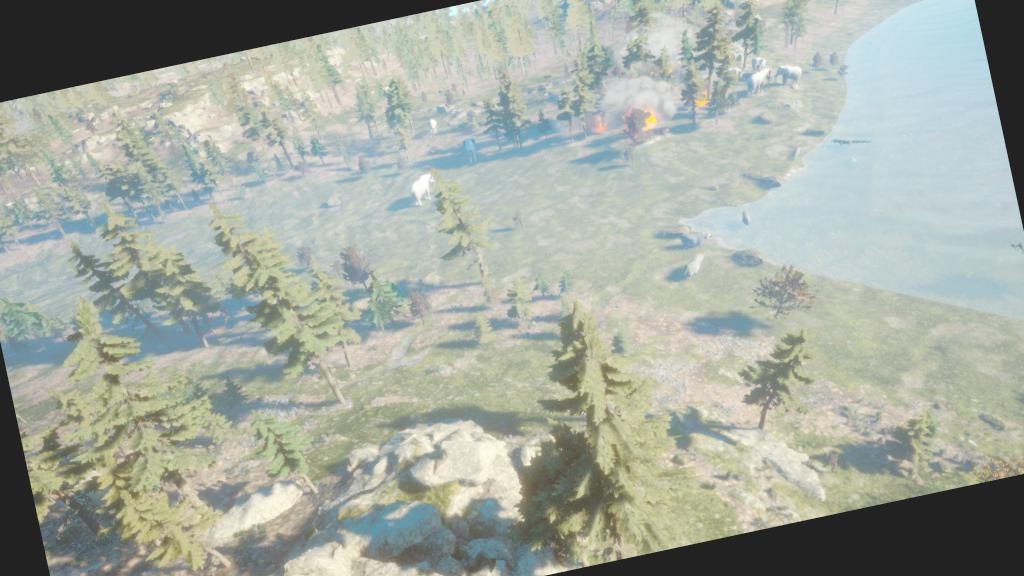elephant: (734, 44, 810, 112), (397, 162, 444, 212)
smoke: (580, 58, 698, 149)
